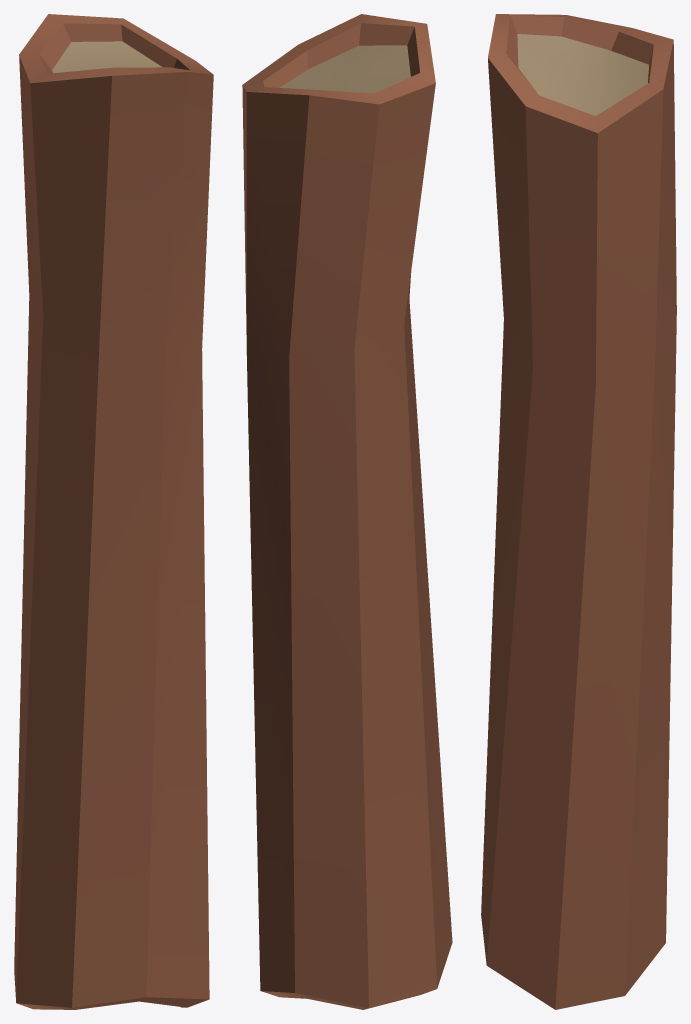
The model's file is LightWoodPoleSmallWoodPole1.fbx.
3 views of the same model, side by side, from view 1: azimuth 30°, elevation 25°; view 2: azimuth 150°, elevation 25°; view 3: azimuth 270°, elevation 25° (orthographic). The views are drawn at different scales.
Visible parts, largest first — view 1: LightWoodPoleSmallWoodPole1; view 2: LightWoodPoleSmallWoodPole1; view 3: LightWoodPoleSmallWoodPole1.
Boxes of the visible parts, bbox=[...] form: LightWoodPoleSmallWoodPole1: bbox=[14, 14, 213, 1009]; LightWoodPoleSmallWoodPole1: bbox=[242, 14, 452, 1009]; LightWoodPoleSmallWoodPole1: bbox=[481, 14, 676, 1009].
Size of the model in its own units: 53.07 by 262 by 49.23.
